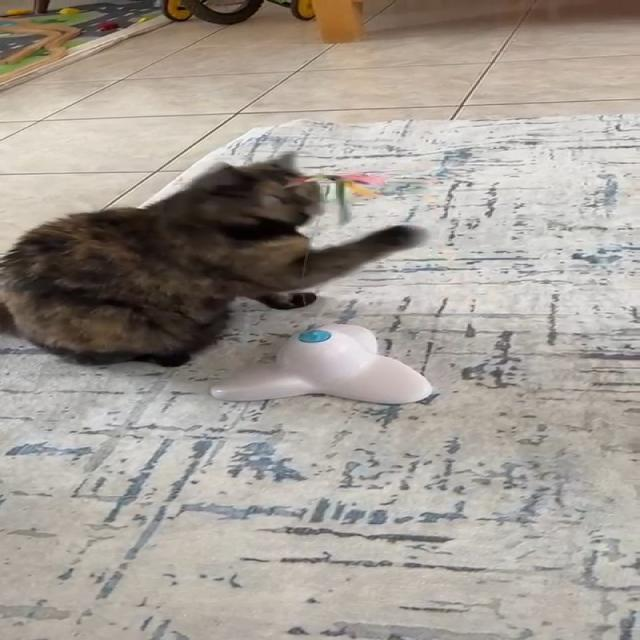authorized: (0, 154, 428, 368)
